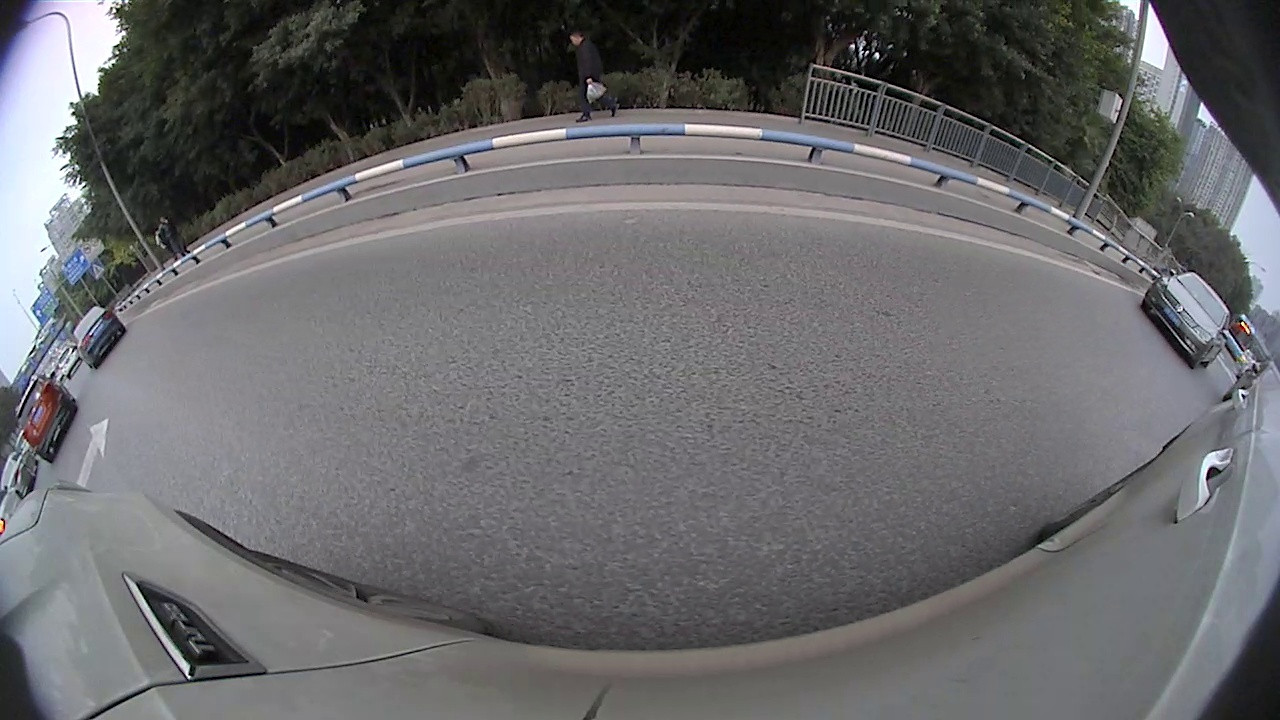car: (1141, 269, 1233, 371), (13, 373, 79, 465), (71, 304, 127, 369), (1221, 360, 1279, 404), (0, 449, 38, 498), (53, 344, 83, 373)
front: (1189, 342, 1214, 374), (1136, 300, 1155, 319)
person: (575, 27, 599, 129), (158, 212, 177, 270)
rear: (63, 399, 79, 419), (39, 448, 58, 463)
